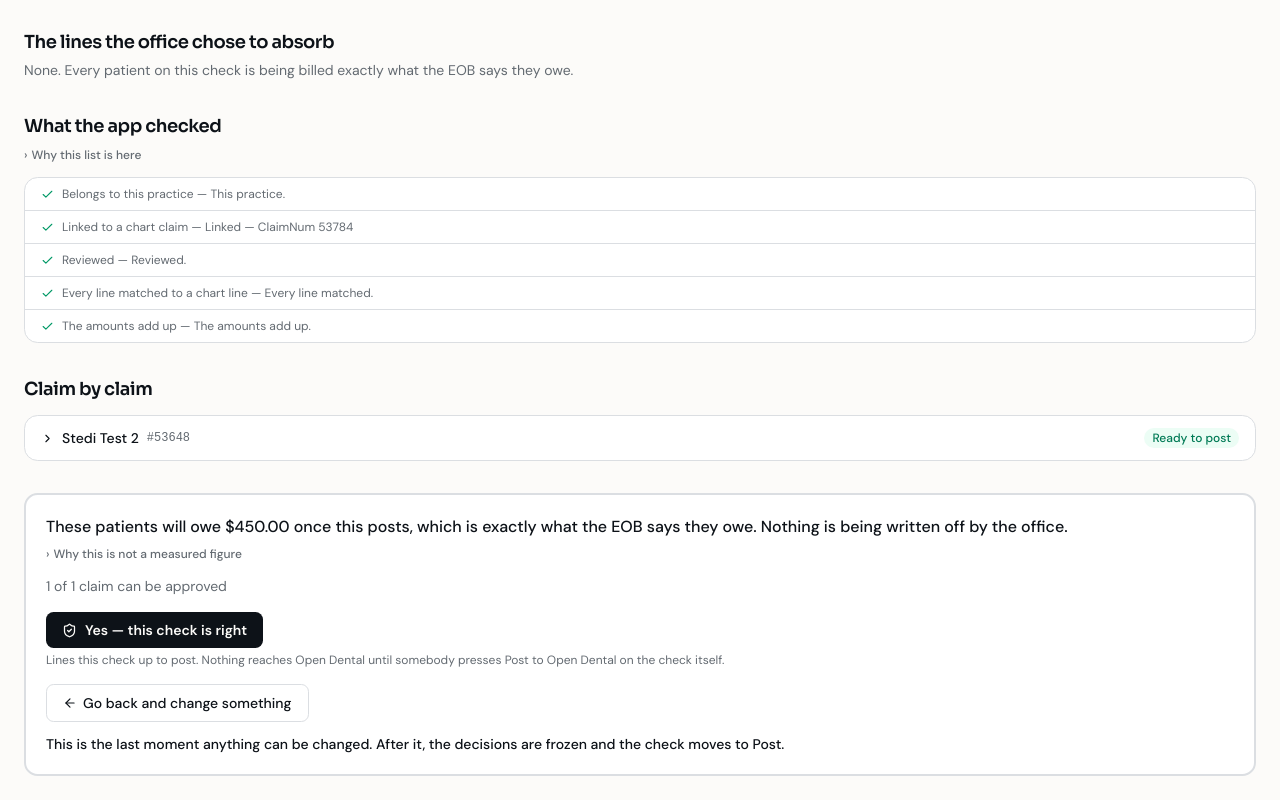
Test: approving lands on the work, never on a list › goes to THIS check's Post step when nothing was held back
(page scrolled)
Click the button with test id "approve-button". click: click(155, 630)
box: [46,612,263,648]
(page scrolled)
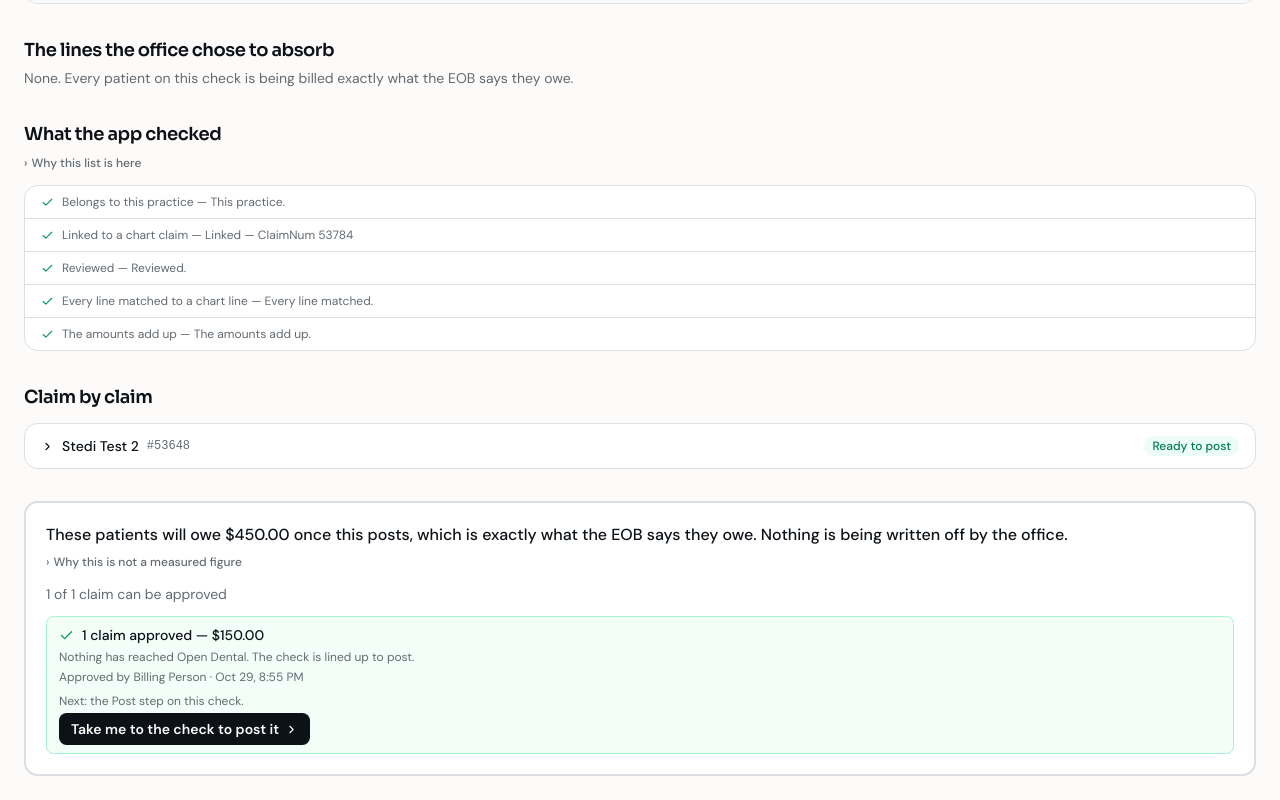
Now the link with test id "approve-back-after" reads "Take me to the check to post it", box [59,713,310,745]
Now the text with test id "approve-onward-next" reads "Next: the Post step on this check.", box [59,693,244,709]
